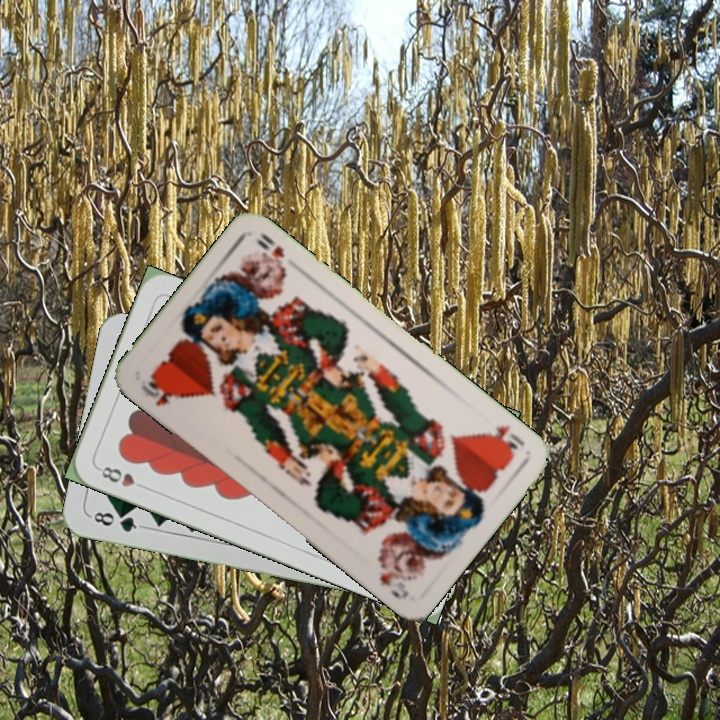G8: (86, 508, 145, 535)
H8: (94, 462, 150, 492)
HO: (480, 420, 527, 458), (137, 372, 181, 409)
